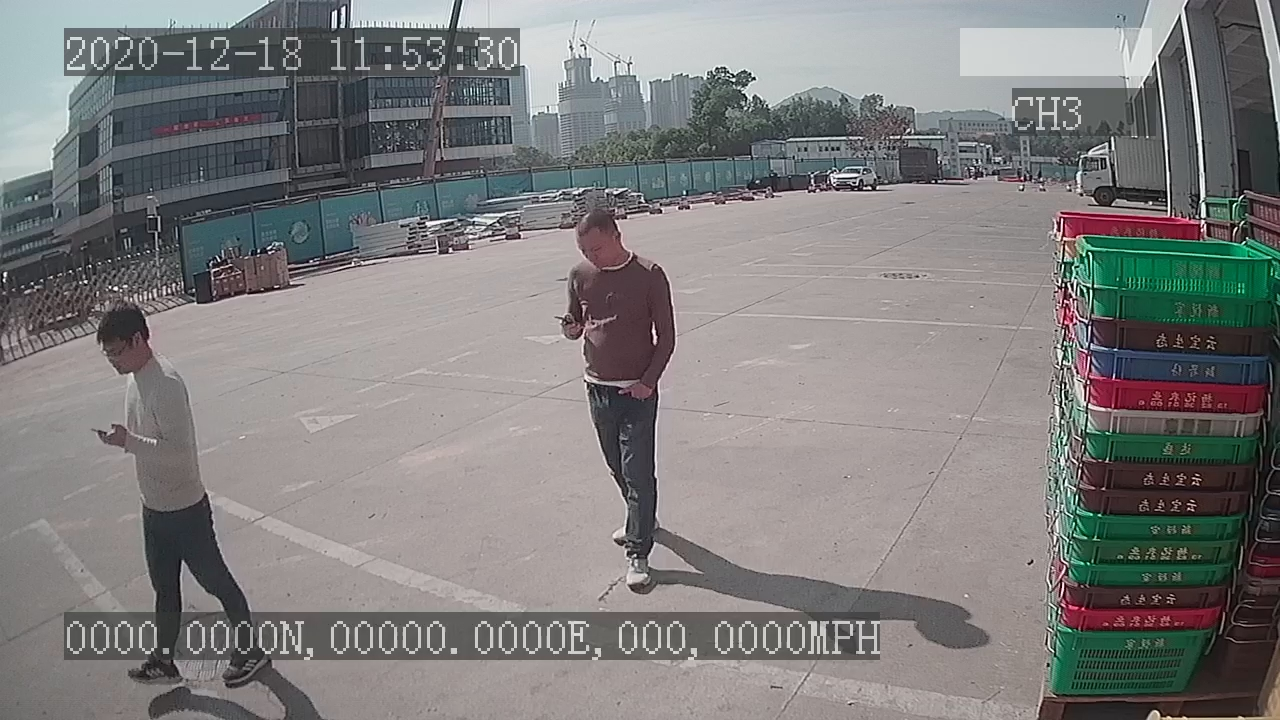person: (542, 204, 684, 594)
